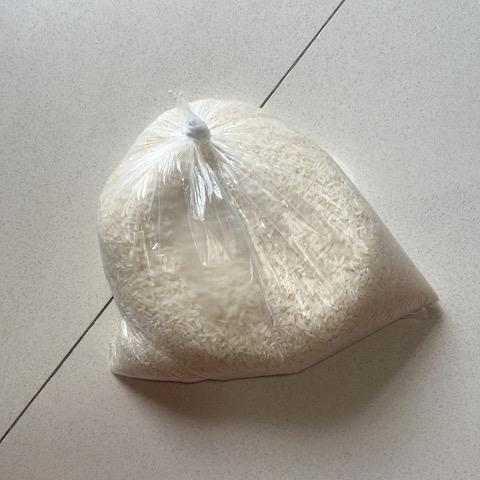rice: (93, 86, 444, 386)
